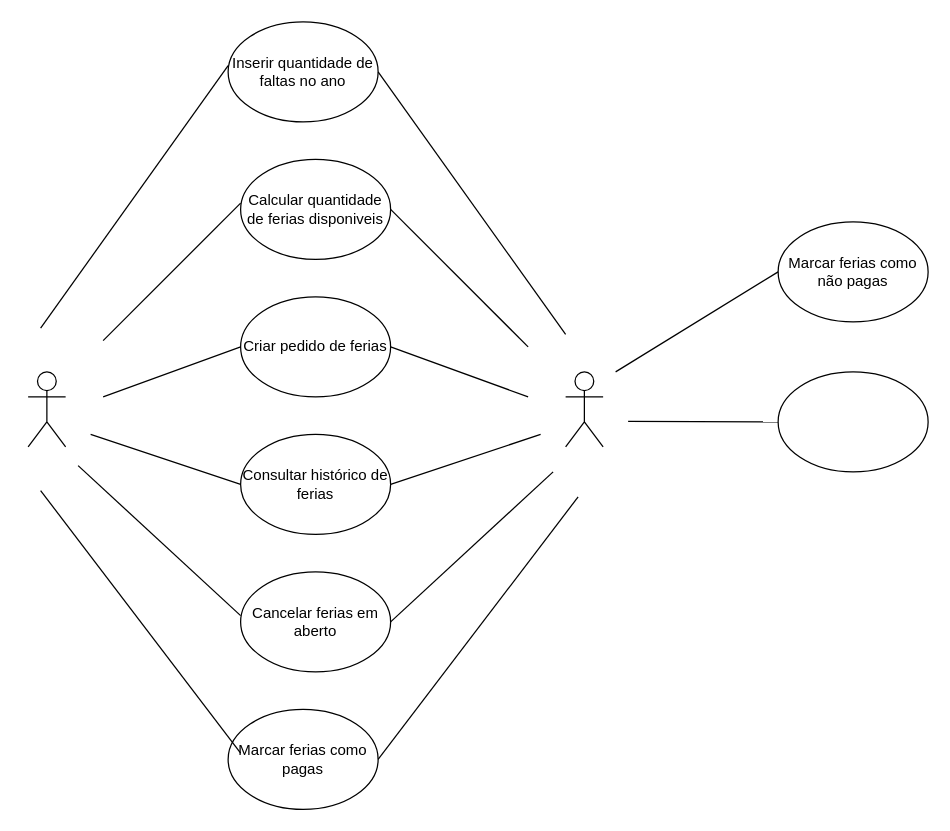
Some shapes in this 950 by 831 pixel diagram are drawn without their labels. Here are the shapes that lost their labels. From the top down, the centre of each, then its label:
point 46,409: Usuario comum
point 583,409: Actor
point 852,421: Aprovar pedido de ferias
